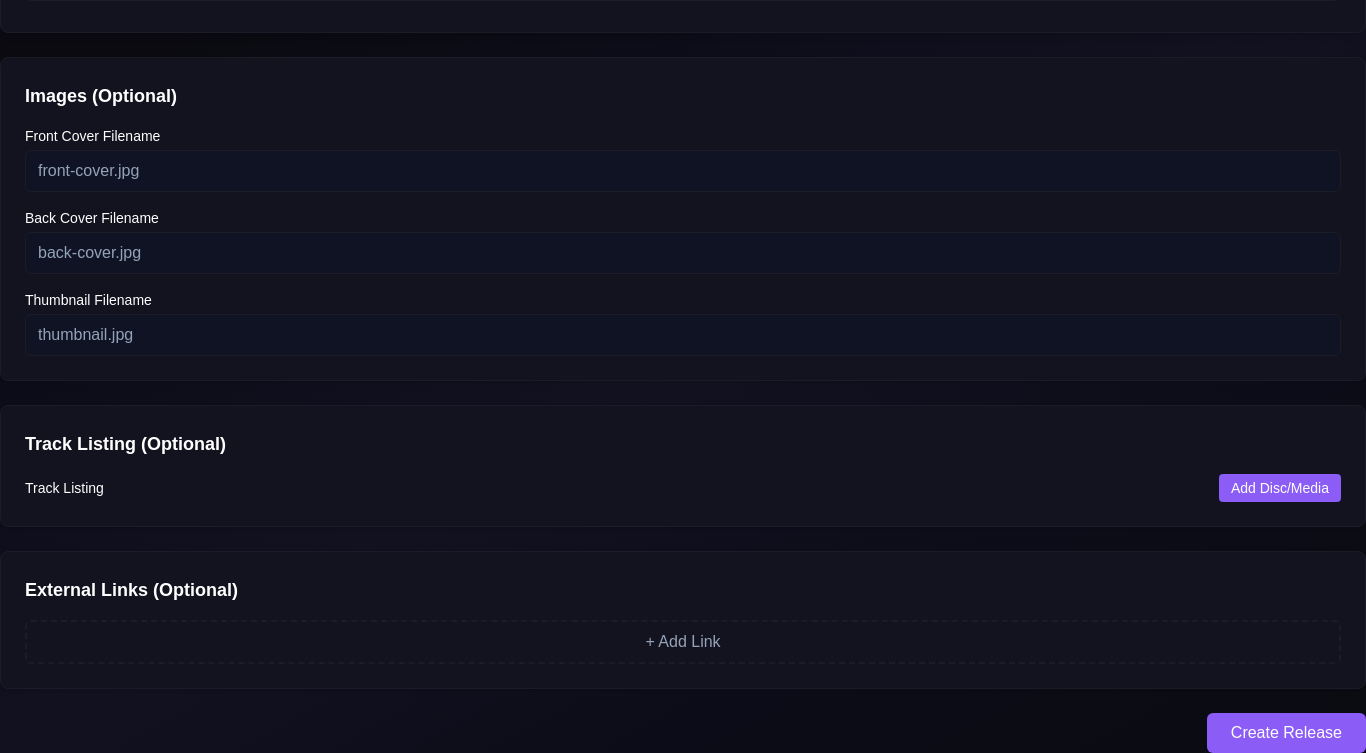
Test: AddReleaseForm › Form Validation › shows validation error when title is empty
The width and height of the screenshot is (1366, 753).
(page scrolled)
What coordinates should you click on to do the following:
click the button "Create Release"
I would click on:
 (1286, 733)
Its box is [1207,713,1365,752].
(page scrolled)
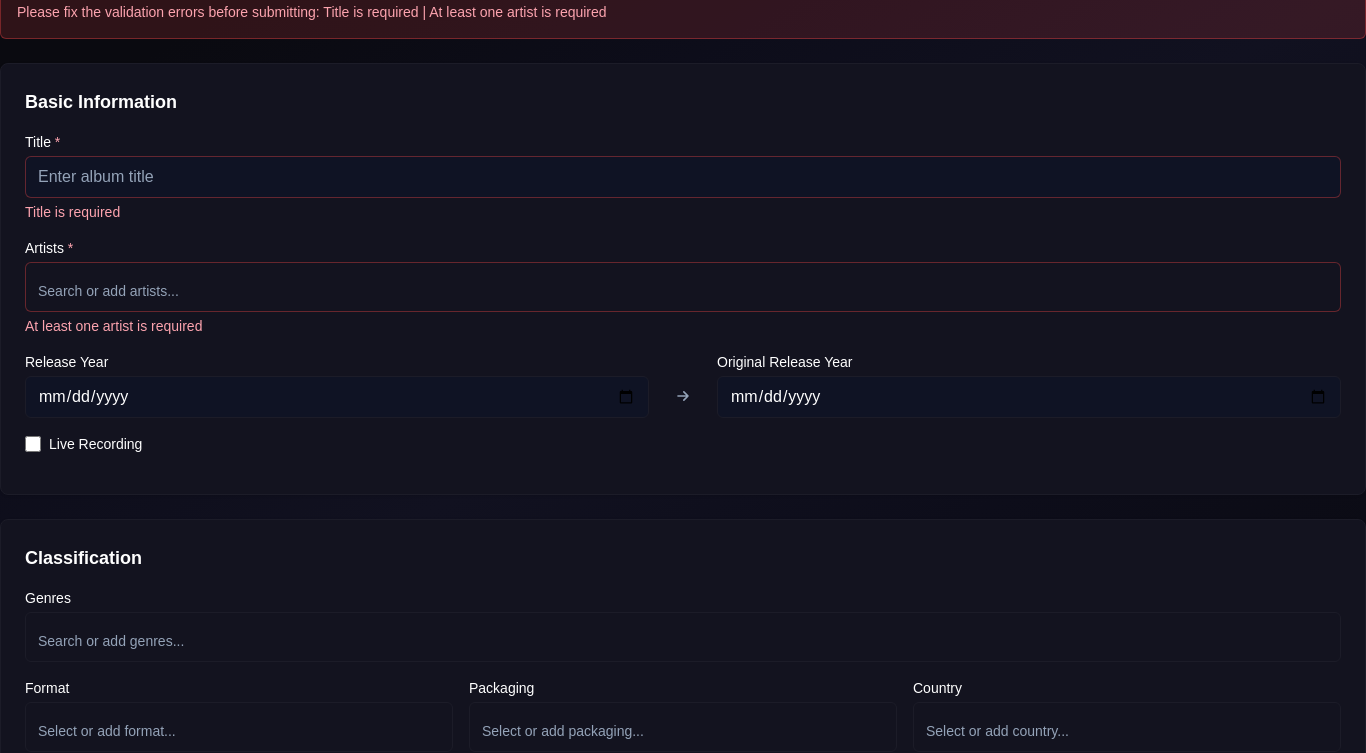
Now the text "Title is required" is shown, box [25,204,120,220]
